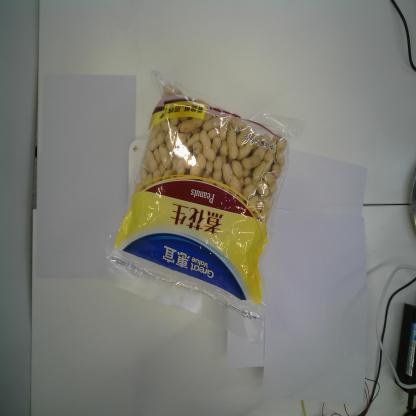Dried Food: (97, 68, 295, 344)
